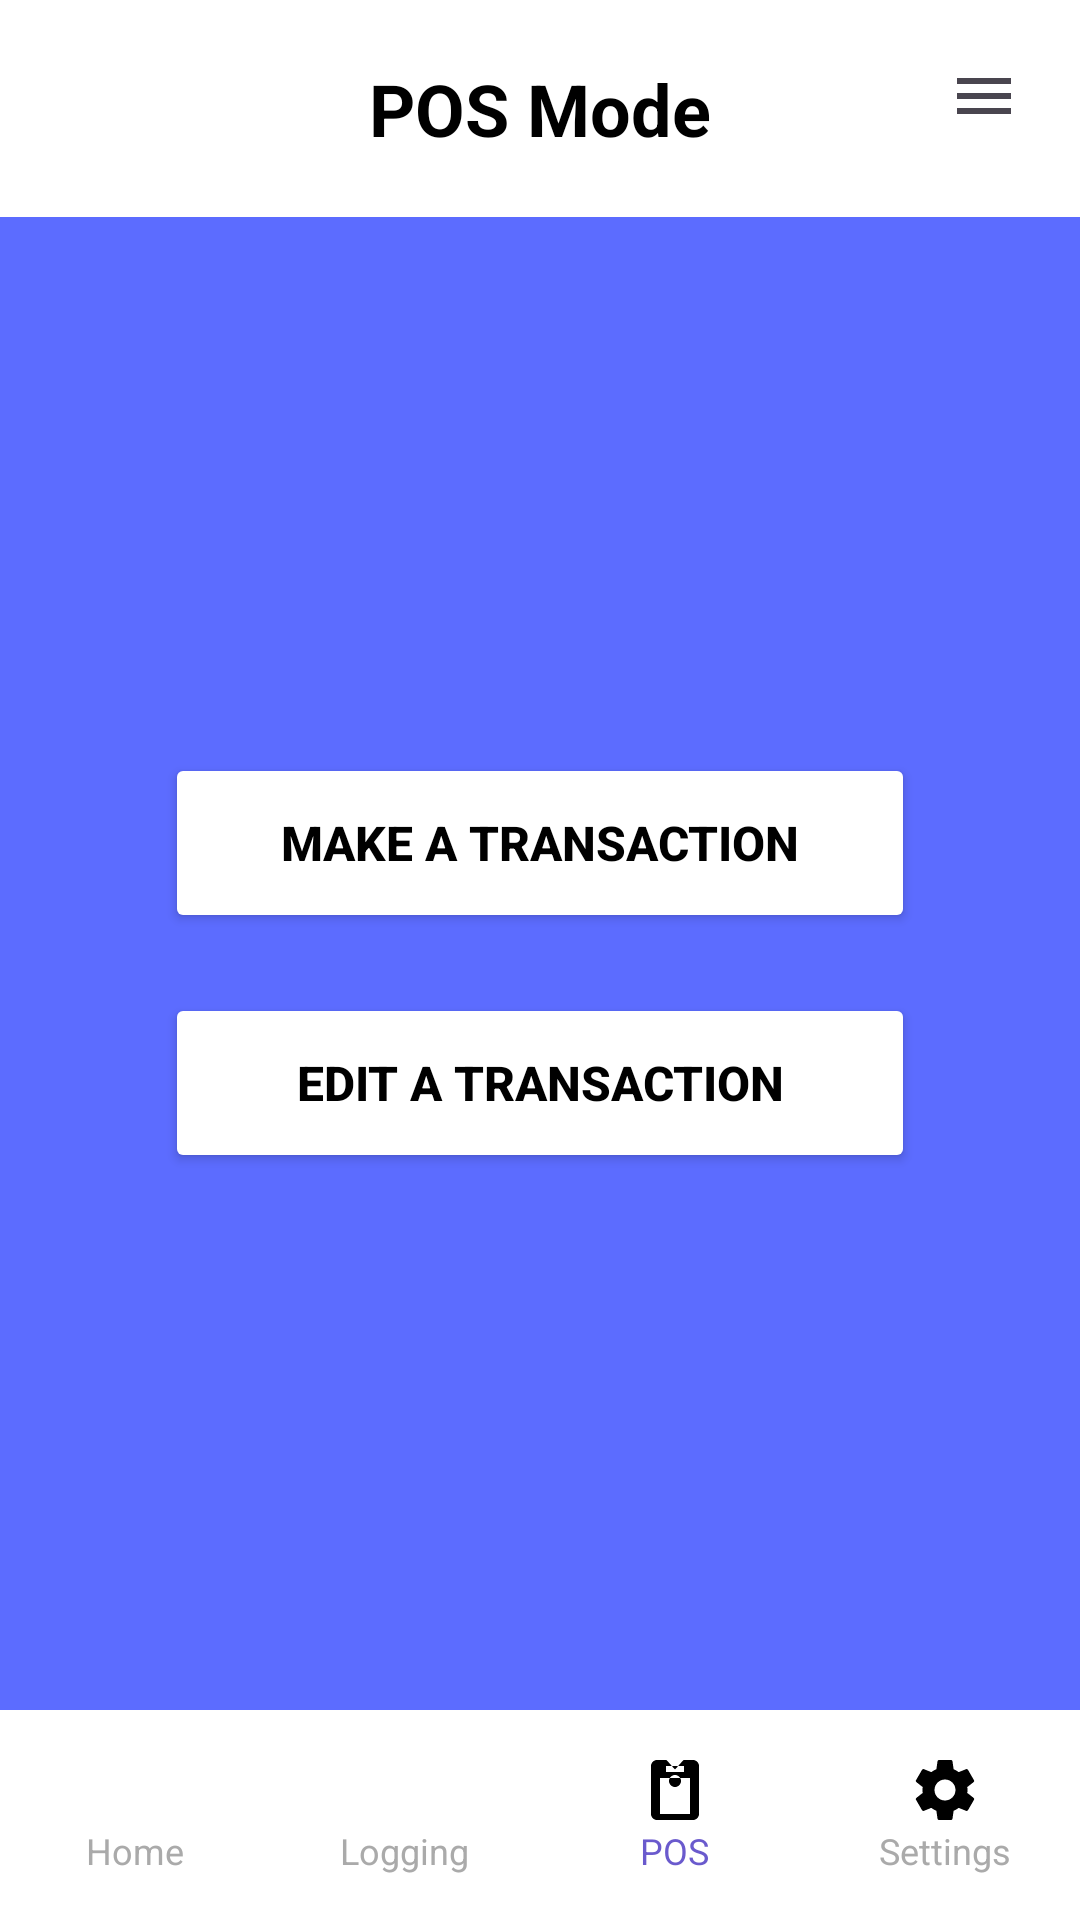

Locate icon controls on the screen. Image size 1080w x 1920h, boxes as {"x1": x1, "y1": y1, "x2": x2, "y2": y2}.
Menu: {"x1": 957, "y1": 78, "x2": 1011, "y2": 114}
